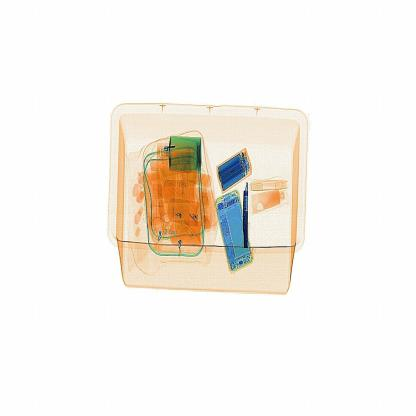pliers: (243, 183, 253, 253)
